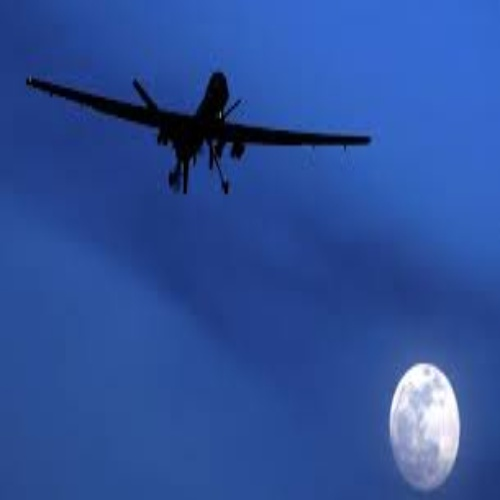uav456: (8, 61, 373, 193)
